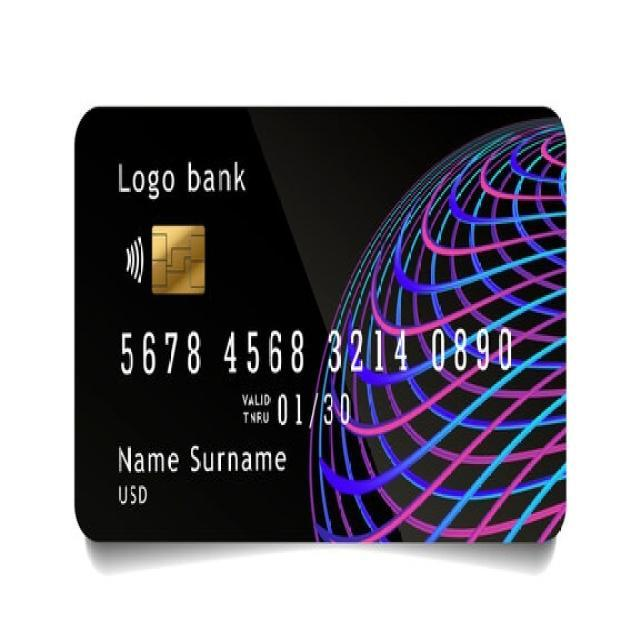payment_card: (73, 105, 566, 544)
